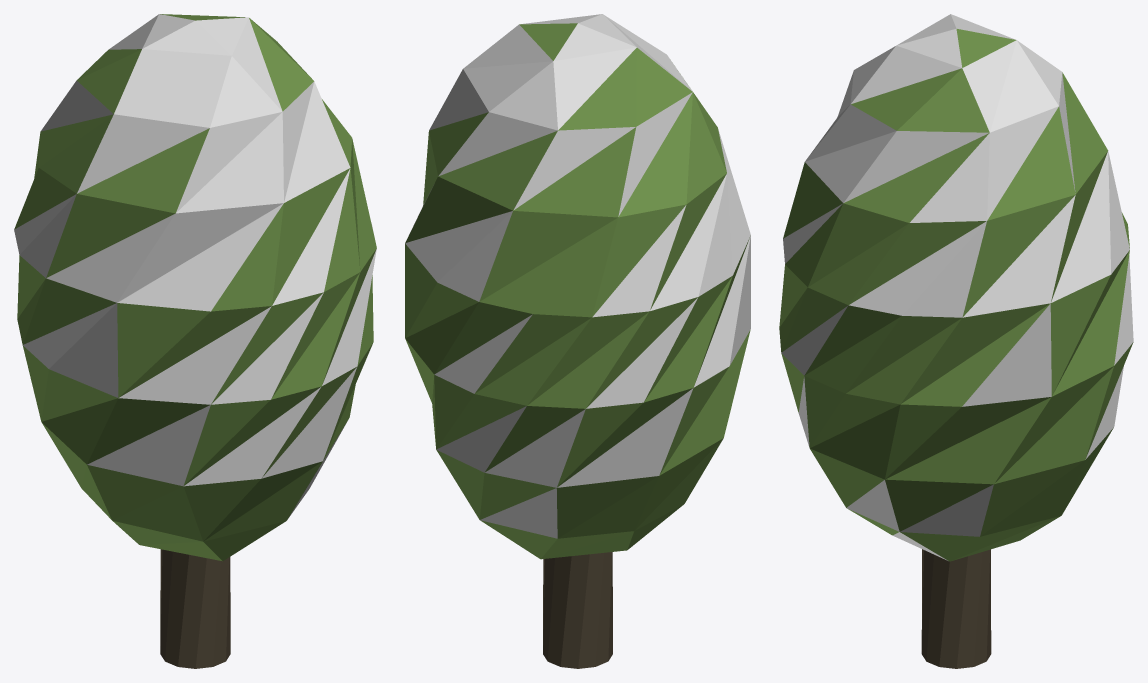
The model's file is twisted-snow1.dae.
The picture shows the model from 3 angles, left to right: view 1: azimuth 30°, elevation 25°; view 2: azimuth 150°, elevation 25°; view 3: azimuth 270°, elevation 25°; orthographic projection.
Parts seen in each view (by area): view 1: Kugel, Zylinder; view 2: Kugel, Zylinder; view 3: Kugel, Zylinder.
Part boxes in pixels (x1,y1,x2,y2): Kugel: [14, 14, 376, 561]; Zylinder: [160, 549, 230, 668]; Kugel: [405, 14, 750, 559]; Zylinder: [543, 552, 612, 668]; Kugel: [779, 14, 1133, 561]; Zylinder: [921, 549, 991, 668].
Size of the model in its own units: 52.12 by 103 by 53.09.
